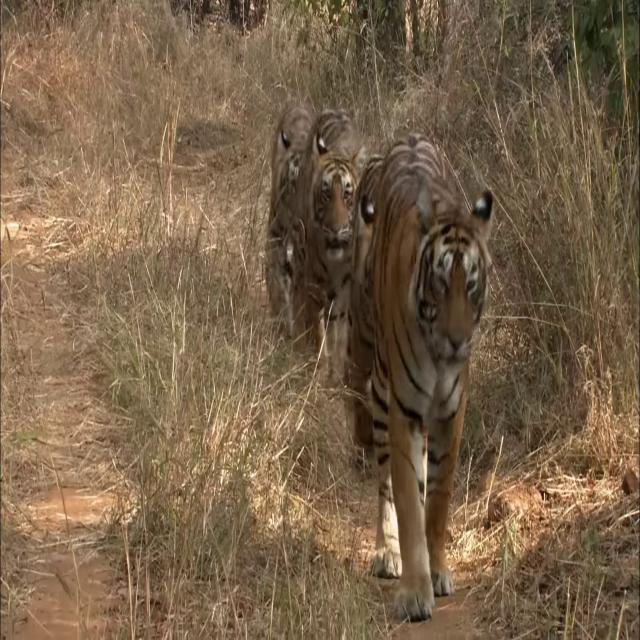tiger: (369, 138, 494, 625), (308, 132, 364, 355)
